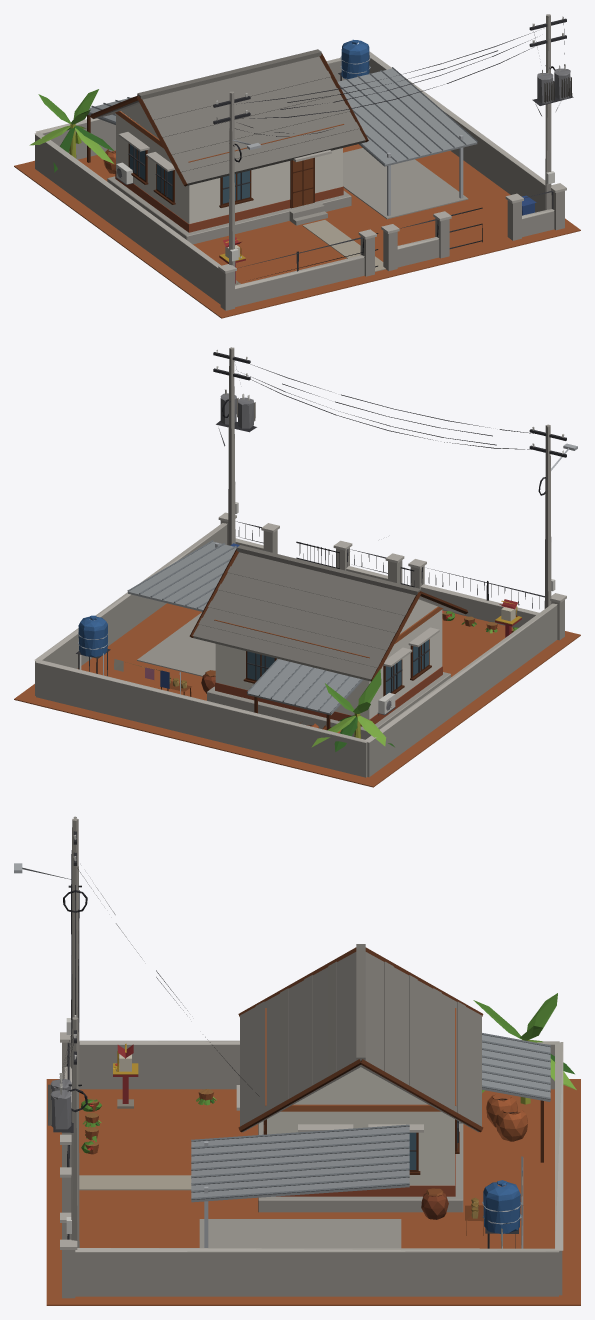
The model's file is home_1.glb.
The picture shows the model from 3 angles, top to bottom: view 1: azimuth 30°, elevation 25°; view 2: azimuth 150°, elevation 25°; view 3: azimuth 270°, elevation 25°; orthographic projection. The views are drawn at different scales.
Parts seen in each view (by area): view 1: body, windows; view 2: body, windows; view 3: body.
Boxes of the visible parts, x1=… form: body: x1=14, y1=14, x2=580, y2=318; windows: x1=129, y1=144, x2=249, y2=203; body: x1=14, y1=347, x2=580, y2=787; windows: x1=247, y1=640, x2=428, y2=694; body: x1=14, y1=816, x2=580, y2=1305.
Size of the model in its own units: 15.9 by 9.31 by 16.88.
